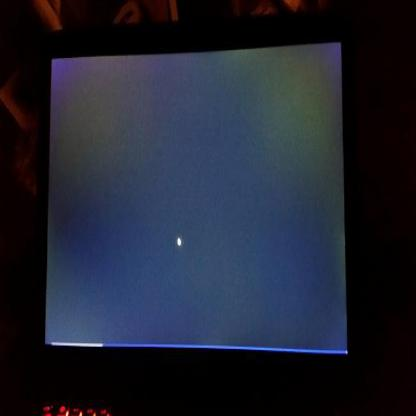fade: (46, 44, 344, 354)
